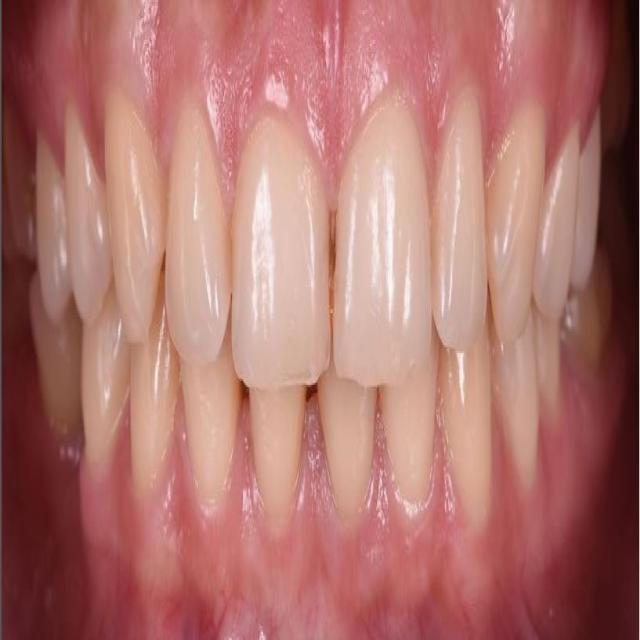1st Molar: (562, 239, 614, 367), (1, 98, 34, 265), (606, 6, 634, 146), (2, 263, 27, 347)
1st Premolar: (64, 100, 111, 325), (533, 126, 581, 321), (81, 287, 128, 477), (494, 313, 539, 494)
2nd Molar: (600, 142, 638, 295)
2nd Premolar: (29, 267, 82, 439), (34, 132, 68, 319), (573, 116, 602, 289), (538, 321, 561, 425)
Canine: (102, 84, 168, 347), (487, 104, 547, 345), (129, 279, 179, 504), (440, 323, 492, 534)
Central Incisor: (333, 96, 430, 391), (232, 118, 331, 389), (318, 369, 376, 528), (248, 389, 306, 532)
Lateral Incisor: (166, 100, 231, 363), (432, 84, 486, 351), (180, 337, 240, 524), (381, 355, 437, 518)
